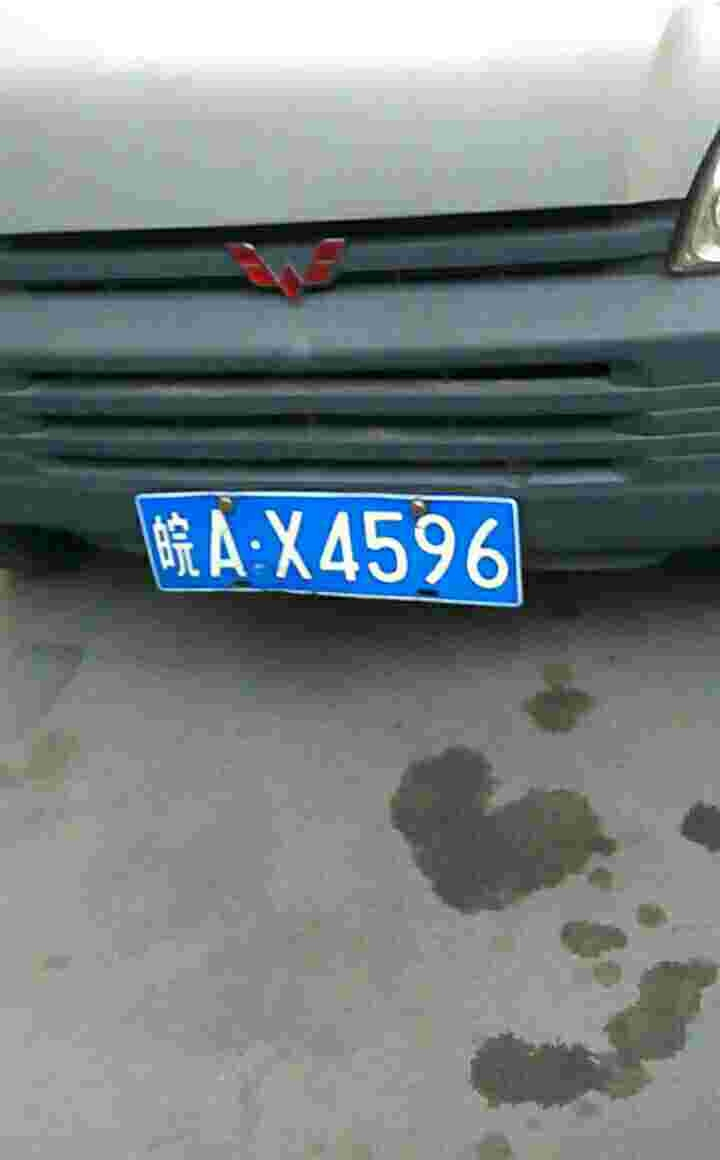license_plate: (134, 483, 506, 606)
